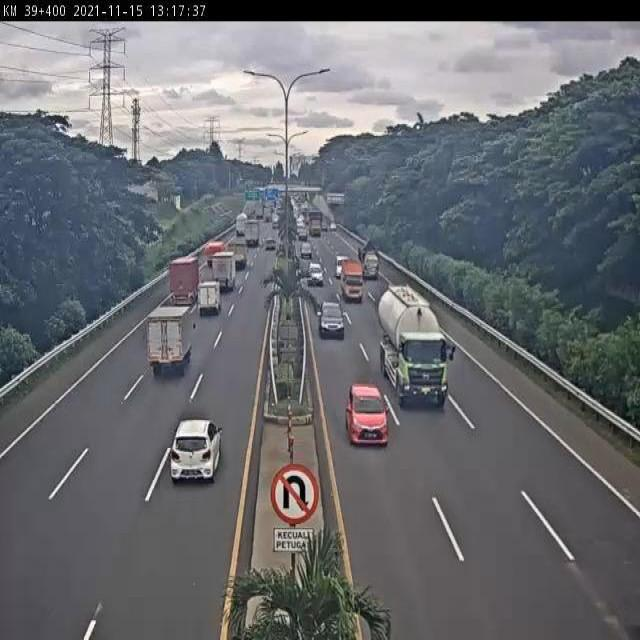car: (171, 418, 224, 486), (347, 385, 389, 447), (318, 301, 343, 340), (307, 261, 324, 288)
truck-l-: (378, 285, 451, 412)
truck-m-: (169, 256, 202, 303), (212, 250, 238, 290)
truck-s-: (145, 301, 196, 380), (358, 238, 382, 282), (341, 258, 364, 302), (197, 281, 223, 316), (227, 241, 247, 271), (203, 240, 224, 267)
